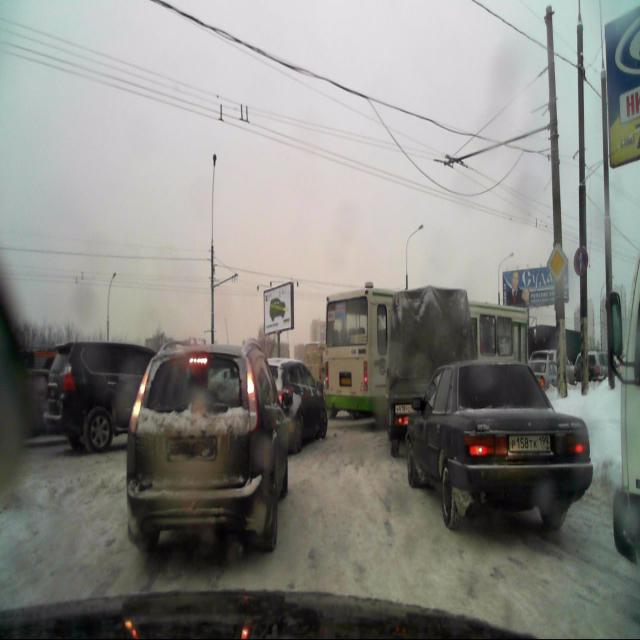road sign: (548, 241, 568, 283)
